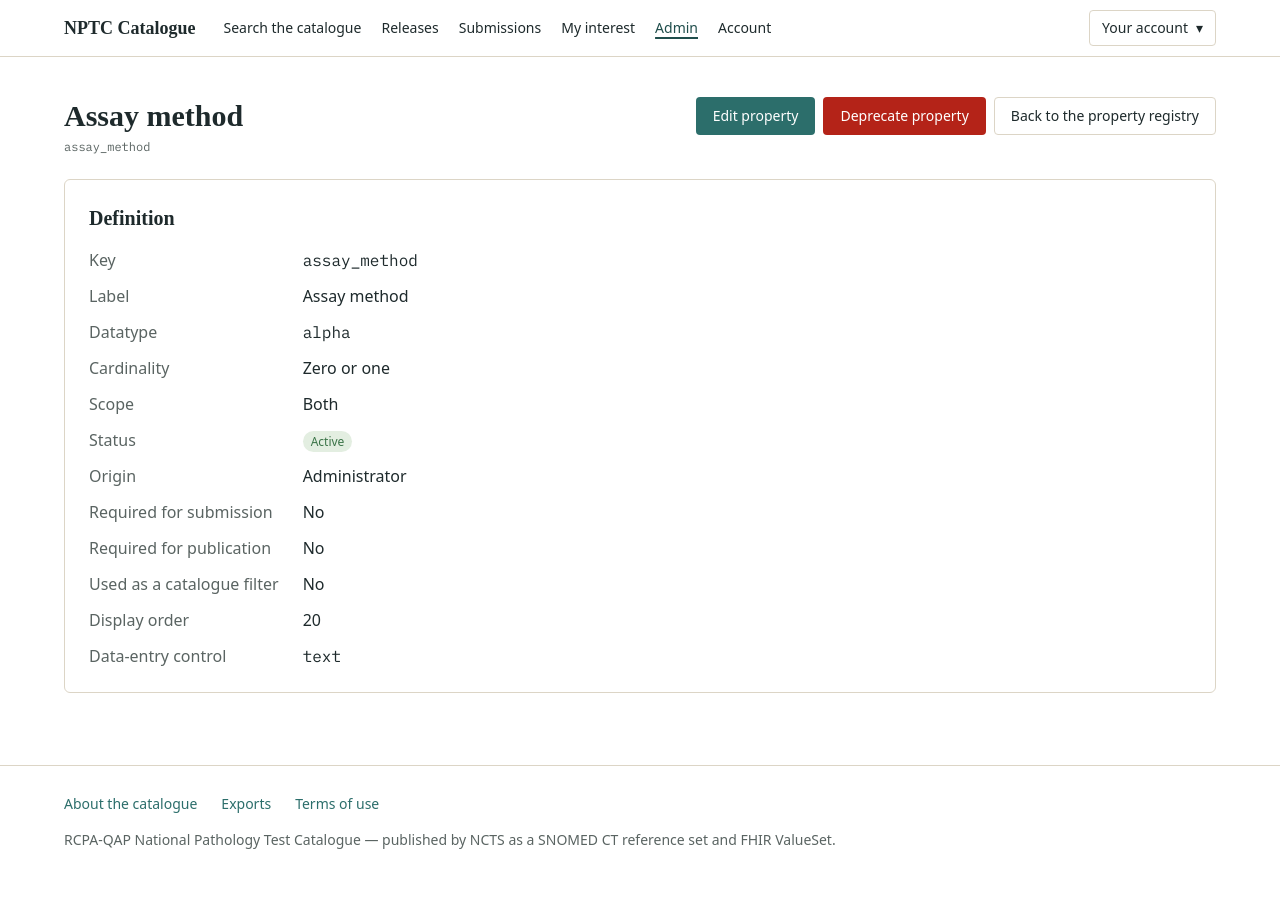
Test: Deprecate property › deprecates, closes the dialog, shows the new status and announces it
This screenshot has width=1280, height=900.
Click the button "Deprecate property": [905, 116] box [823,97,986,135]
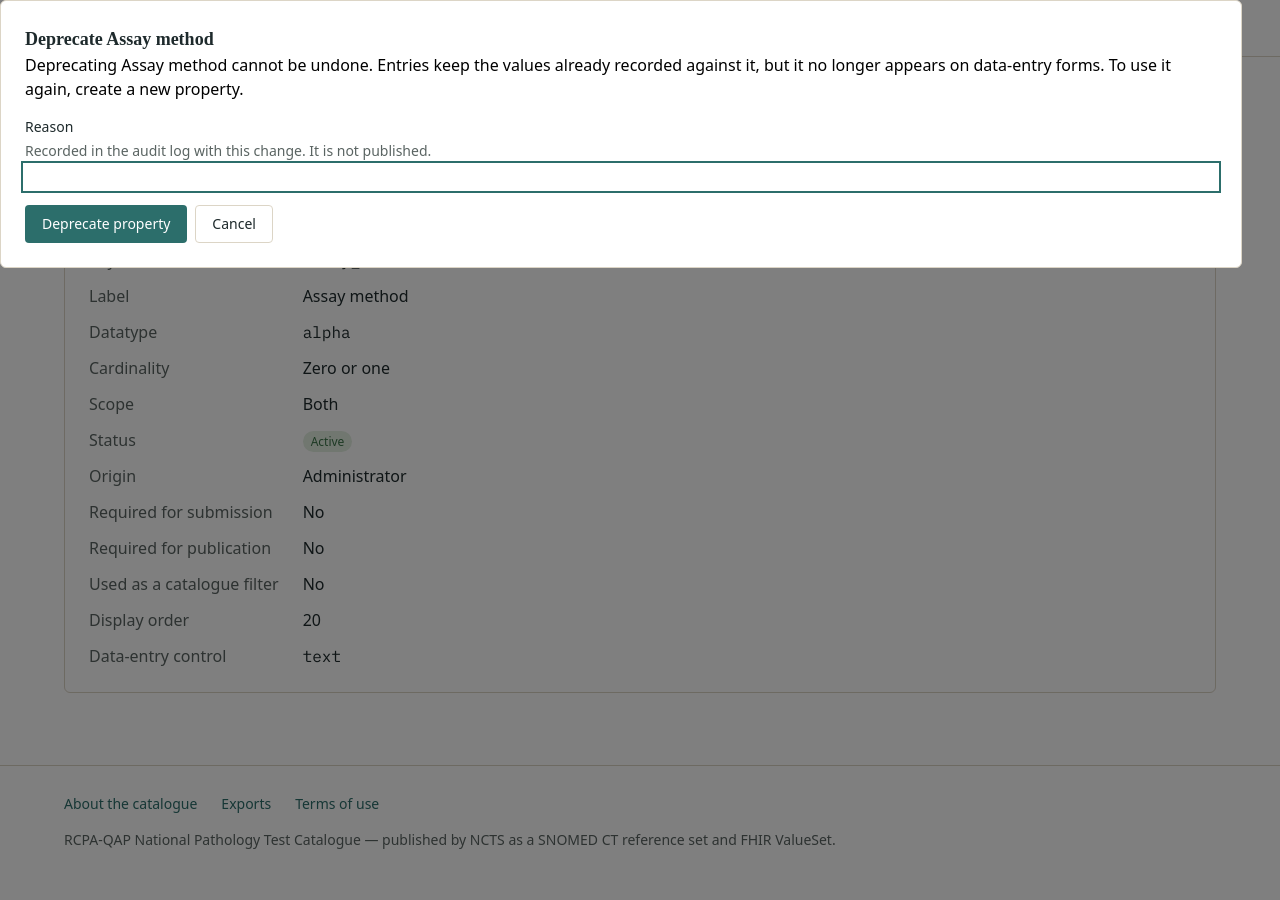
In the field labelled "Reason": [621, 177] box [25,165,1217,189], type "Replaced by a coded property"
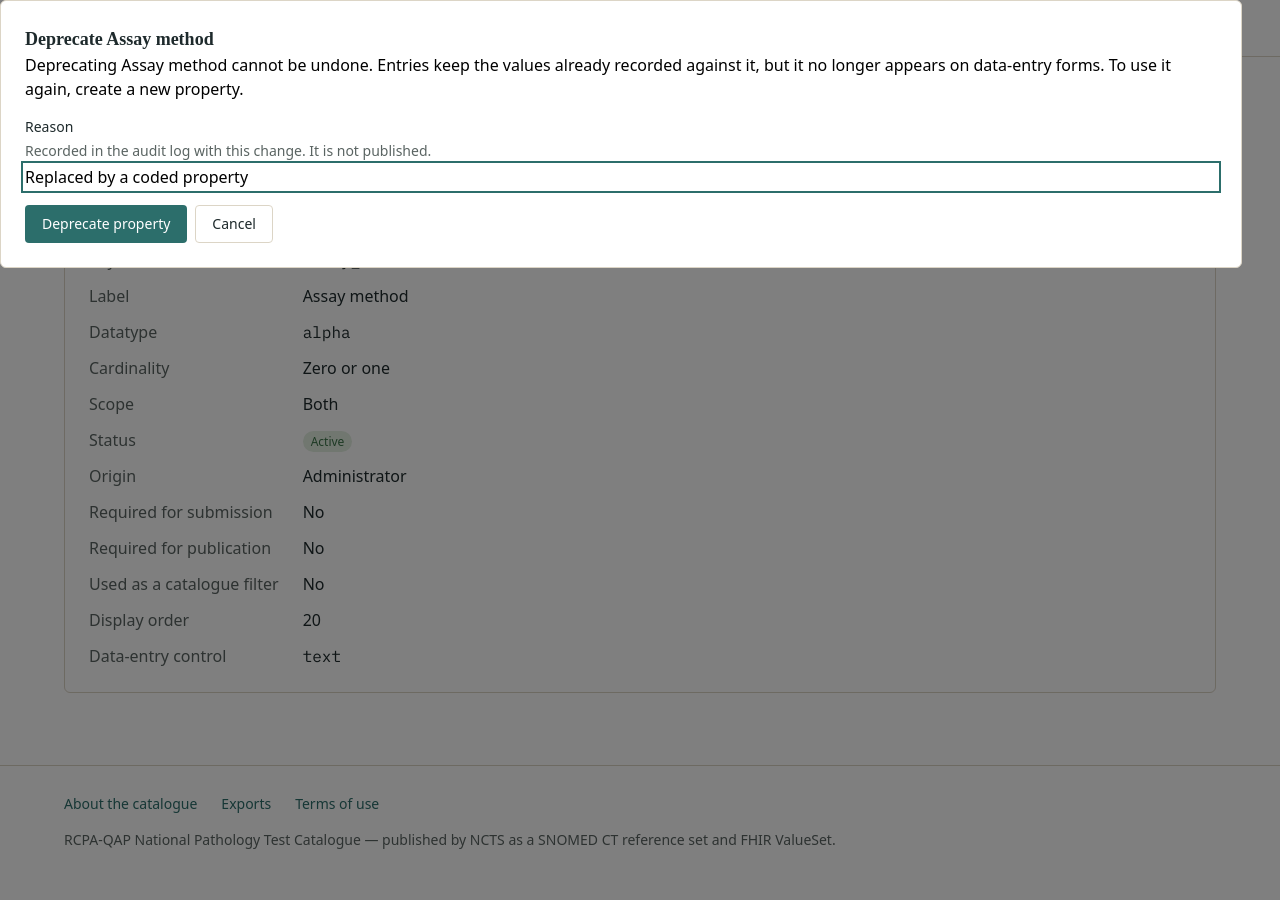
Click the button "Deprecate property": [106, 224] box [25,205,187,243]
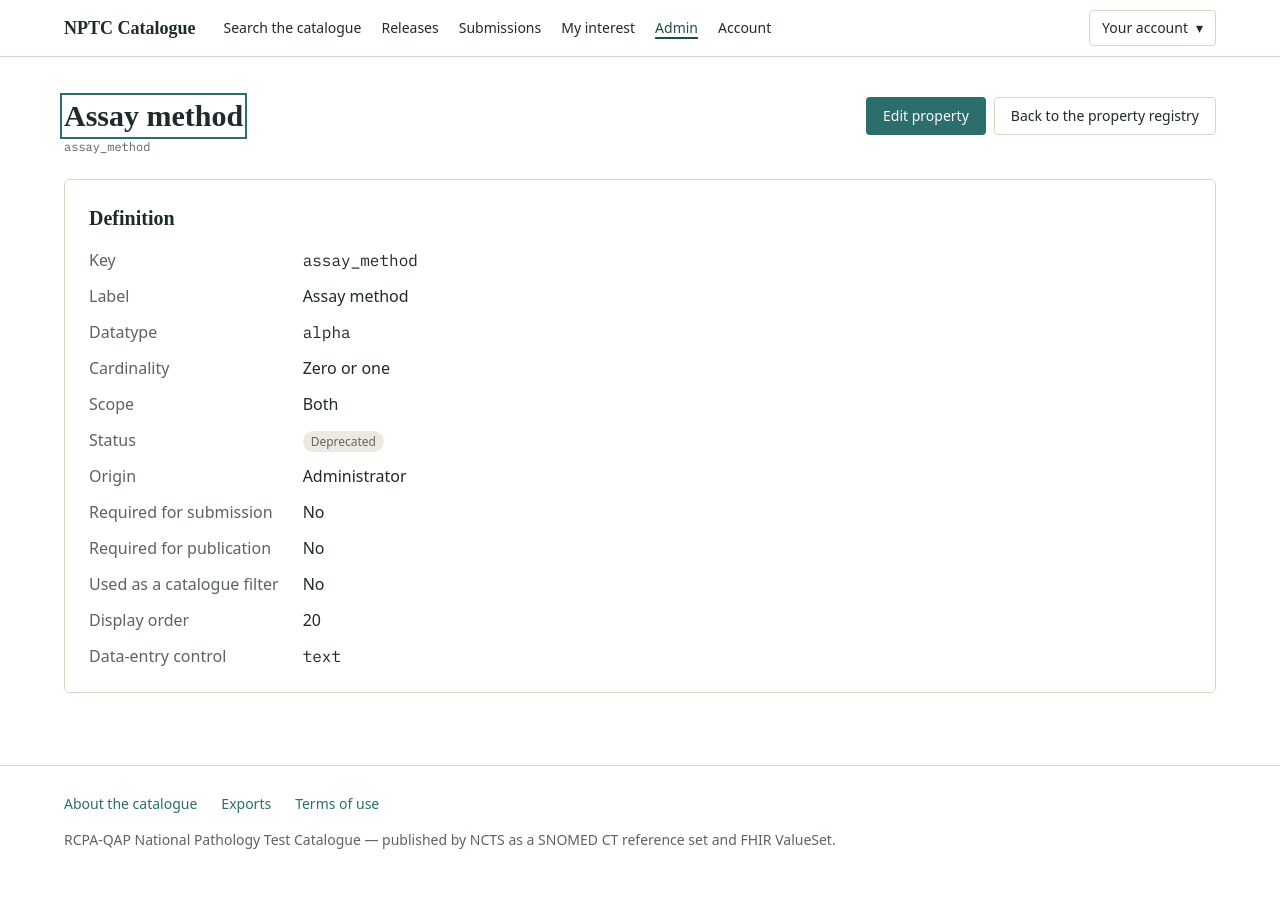
Now the dialog is gone
Now the text "Deprecated" is shown, box [303,430,384,452]
Now the button "Deprecate property" is gone
